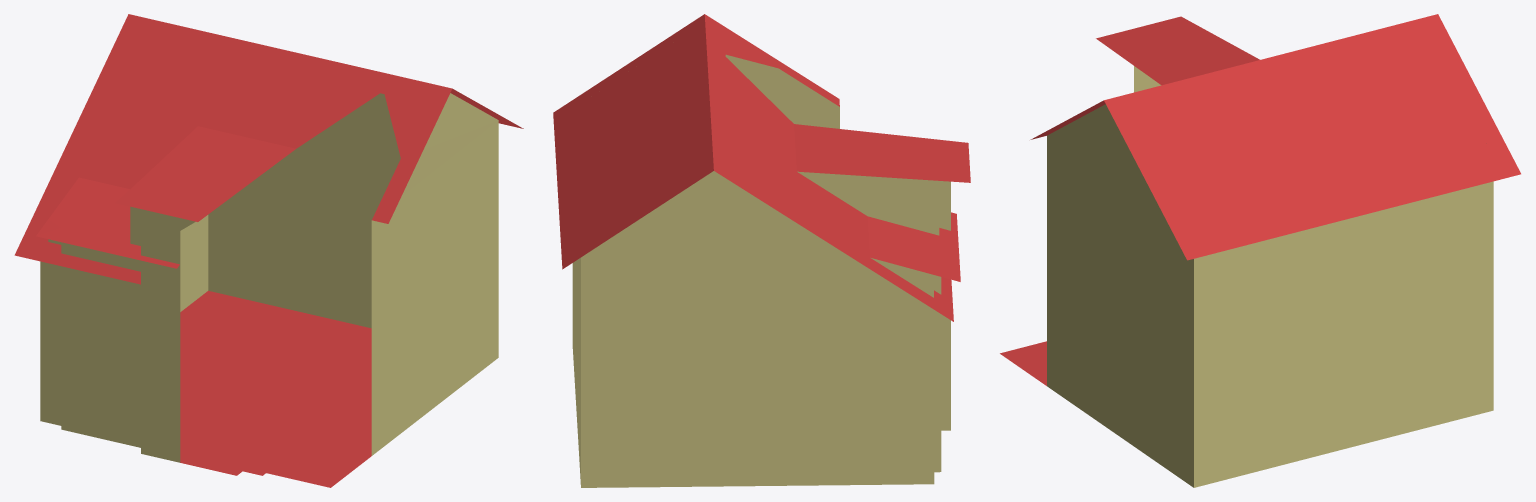
3 renders of one model, left to right at view 1: azimuth 30°, elevation 25°; view 2: azimuth 150°, elevation 25°; view 3: azimuth 270°, elevation 25°, orthographic. The views are drawn at different scales.
Bounding box in the file's own units: 20.72 × 19.42 × 14.02.
